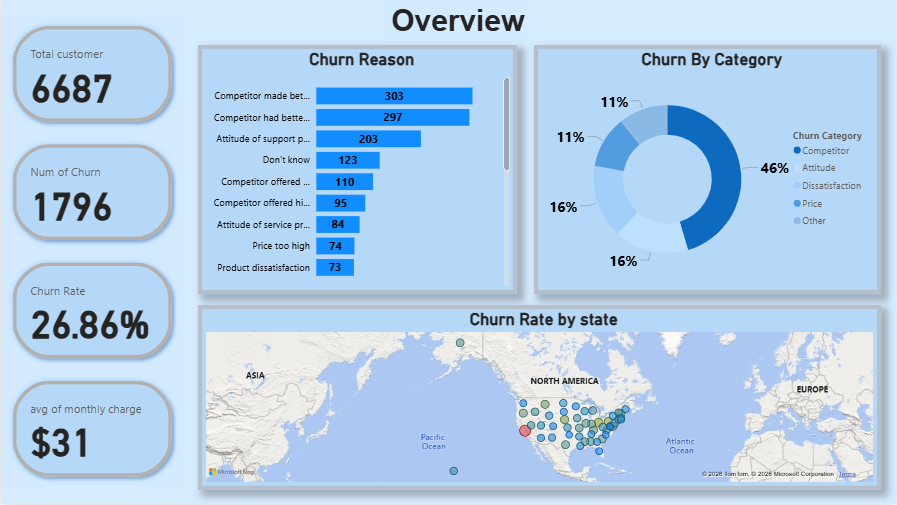

This screenshot's page, from the dashboard's own definition file:
{"tool":"powerbi","page":{"name":"Overview","canvas":[1280,720],"ordinal":0},"visuals":[{"type":"cardVisual","fields":{"Data":["Databel - Data.Total customer","Databel - Data.Num of Churn","Databel - Data.Churn Rate","Databel - Data.avg of monthly charge"]},"box":[0,20,261.2,681.2],"z":0},{"type":"textbox","box":[546.9,0,210.8,63.8],"z":1000},{"type":"clusteredBarChart","title":"Churn Reason","fields":{"Y":["Databel - Data.Total customer"],"Category":["Databel - Data.Churn Reason"]},"box":[282,64,456,356],"z":2000},{"type":"donutChart","title":"Churn By Category","fields":{"Category":["Databel - Data.Churn Category"],"Y":["Databel - Data.Total customer"]},"box":[762,64,496,356],"z":3000},{"type":"map","title":"Churn Rate by state","fields":{"Category":["Databel - Data.State"],"Size":["Databel - Data.Churn Rate"]},"box":[282,436,976,264],"z":4000}]}

Visuals, with their boxes in screenshot pixels (x1, y1, x2, y2), scaled from the page's 1280x720 canvas onto the 897x505 screenshot:
cardVisual - Databel - Data.Total customer x Databel - Data.Num of Churn: region(0, 14, 183, 492)
textbox: region(383, 0, 531, 45)
"Churn Reason" clusteredBarChart: region(198, 45, 517, 295)
"Churn By Category" donutChart: region(534, 45, 882, 295)
"Churn Rate by state" map: region(198, 306, 882, 491)
